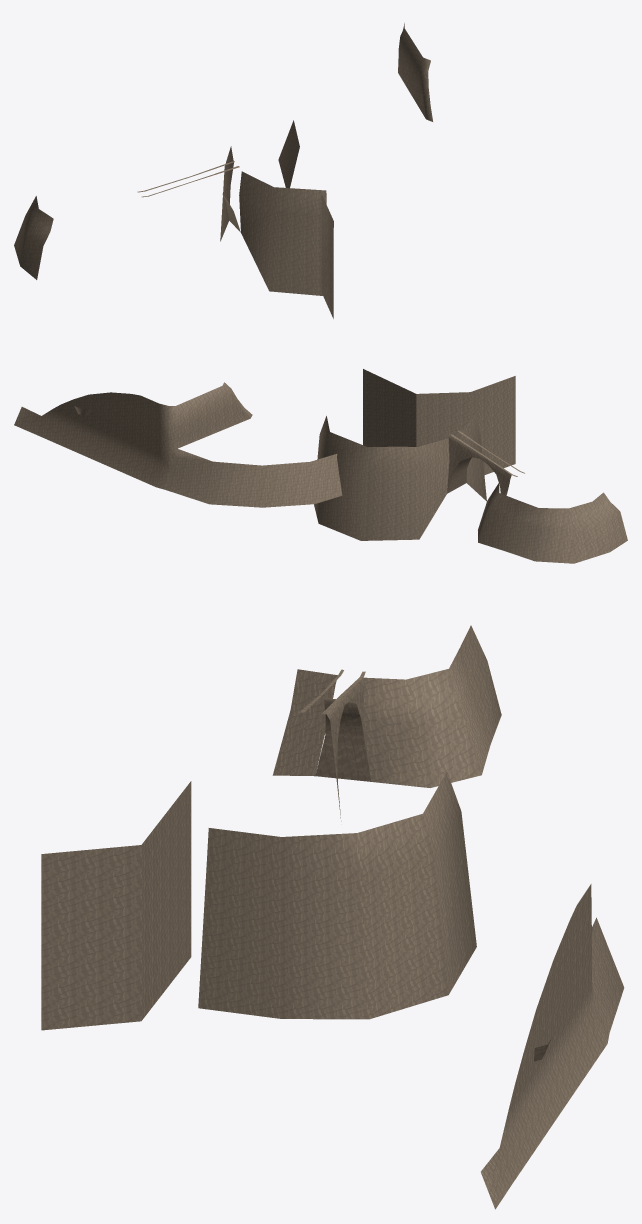
Rendered from kd_stage_1364a3_4_3.glb.
3 views of the same model, one above another, from view 1: azimuth 30°, elevation 25°; view 2: azimuth 150°, elevation 25°; view 3: azimuth 270°, elevation 25° (orthographic). The views are drawn at different scales.
Parts seen in each view (by area): view 1: kd_stage_1364a3_4_3; view 2: kd_stage_1364a3_4_3; view 3: kd_stage_1364a3_4_3.
Boxes of the visible parts, x1,y1,x2,y2 form: kd_stage_1364a3_4_3: (14,23,432,318); kd_stage_1364a3_4_3: (14,369,627,563); kd_stage_1364a3_4_3: (41,625,624,1209).
Size of the model in its own units: 509 by 98.77 by 234.
1 material, 1 textured.
